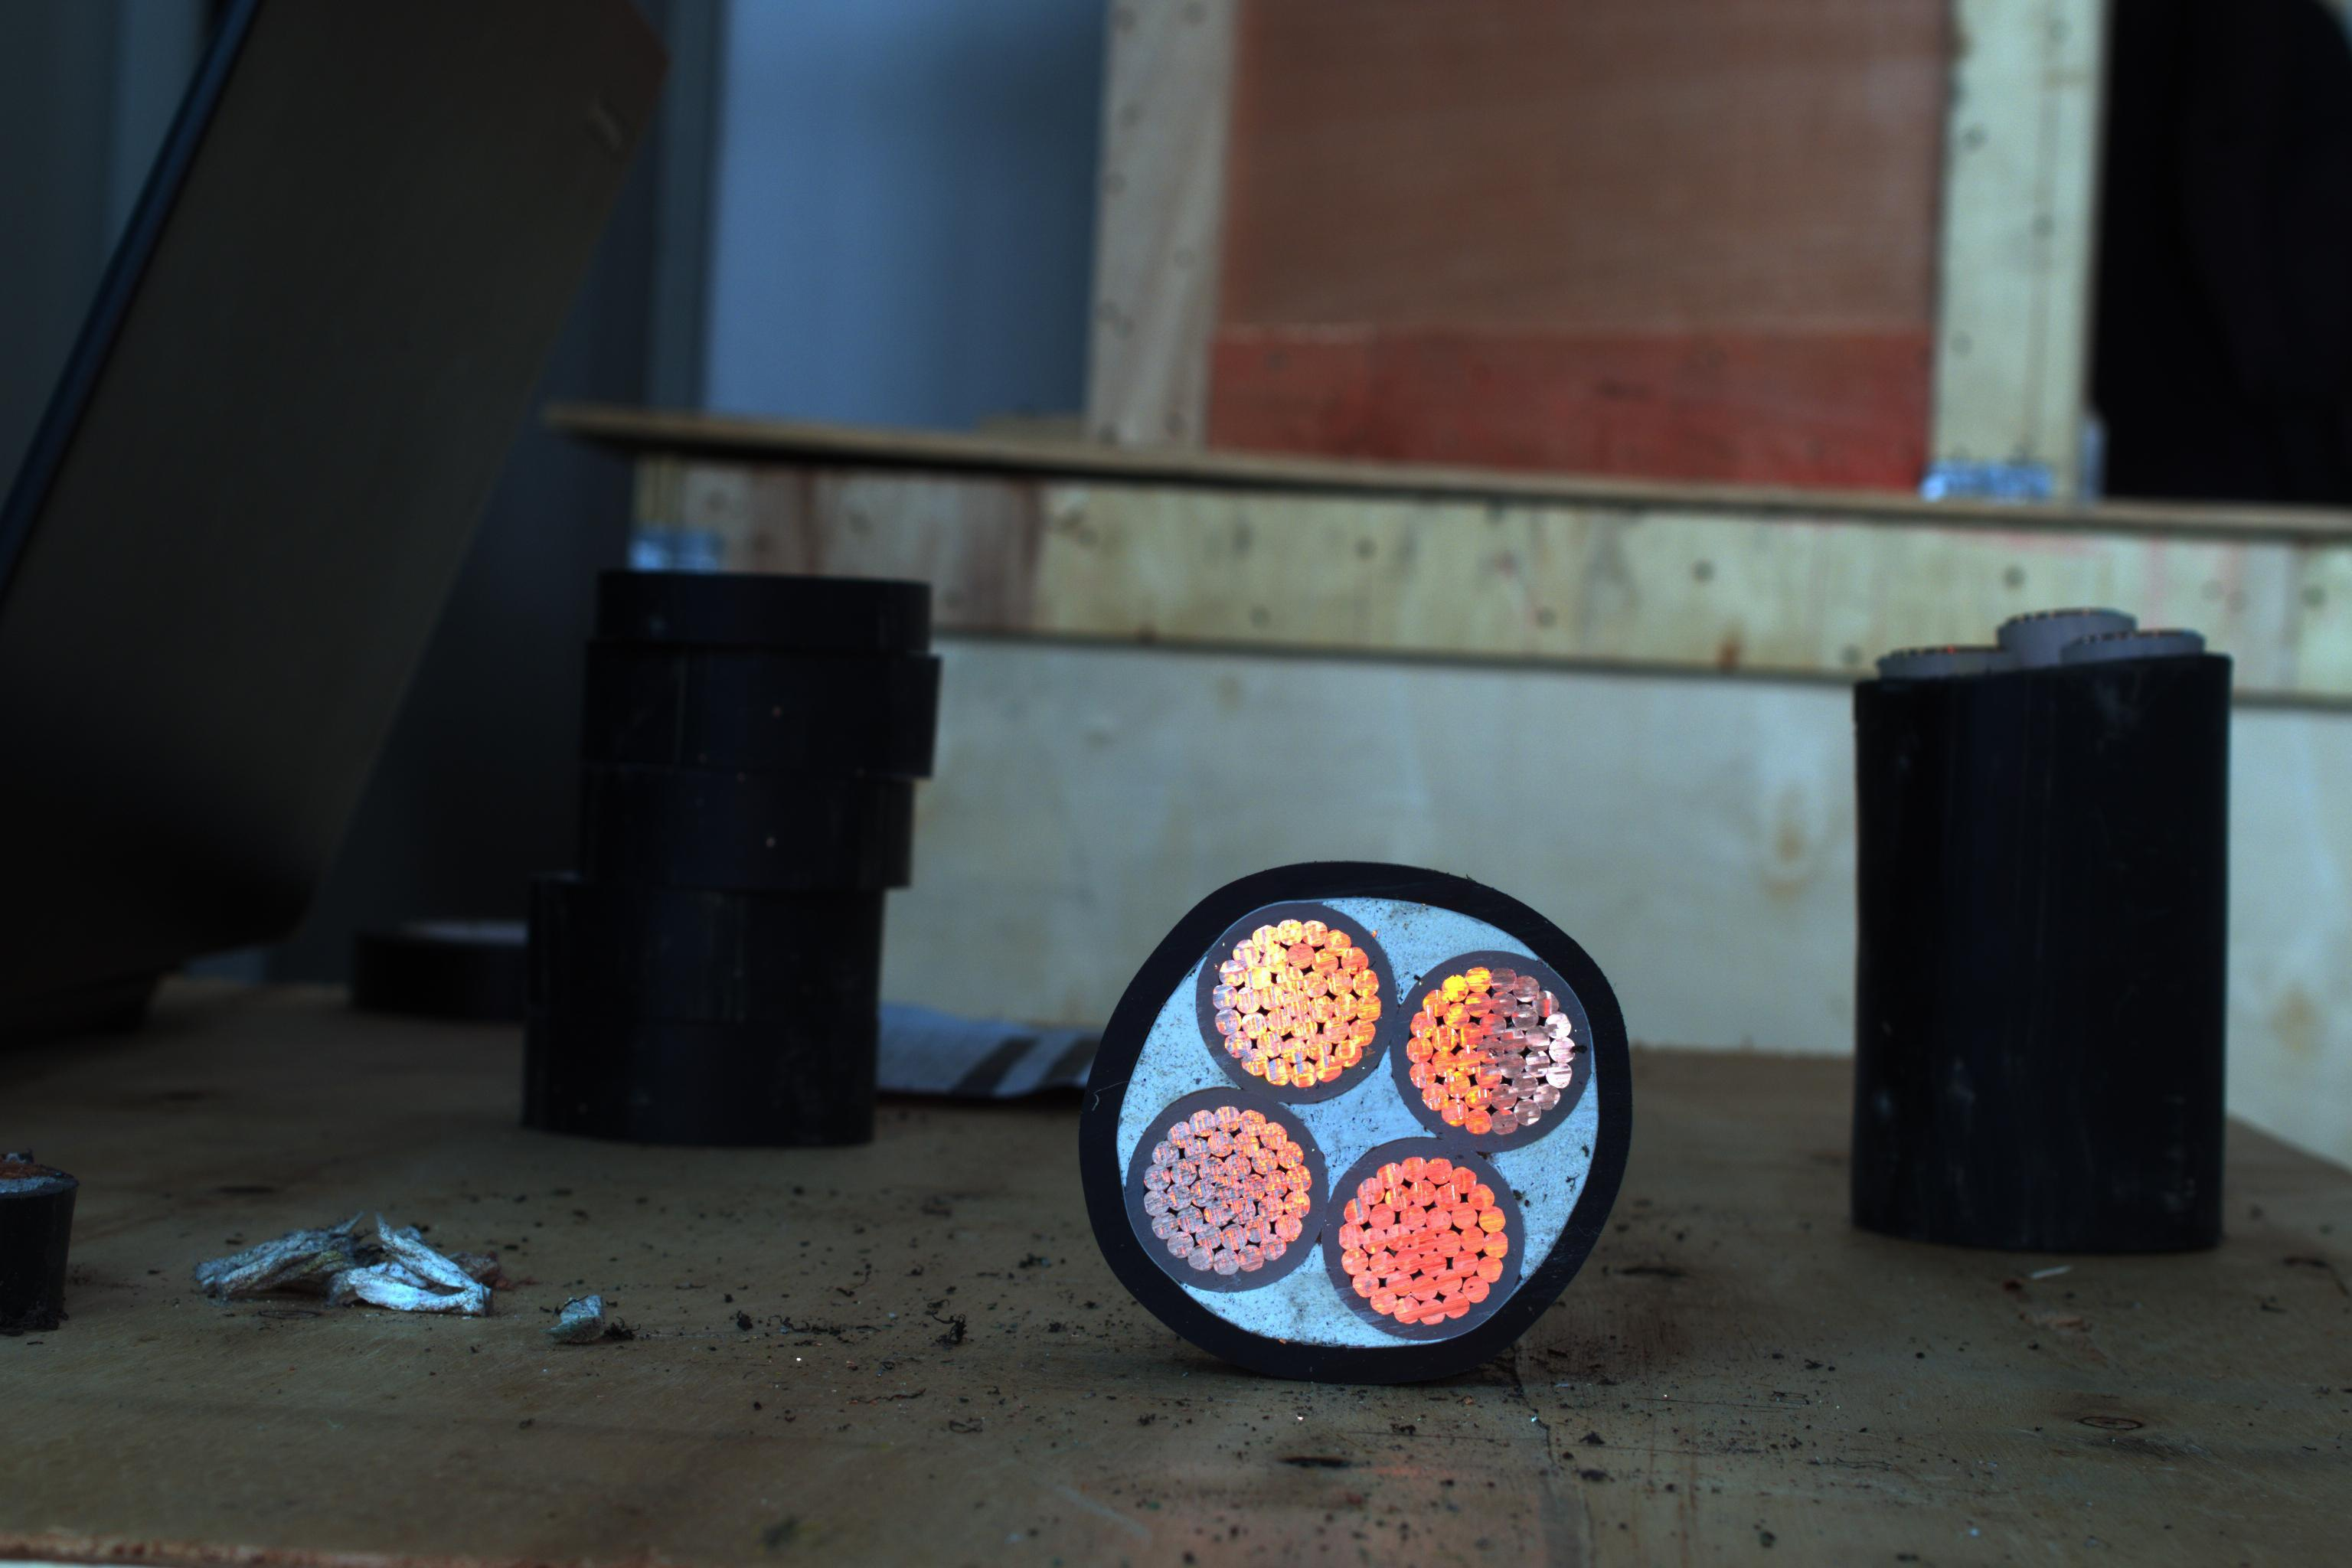YJV_0.6_1kV_4x240: (1090, 875, 1610, 1360)
